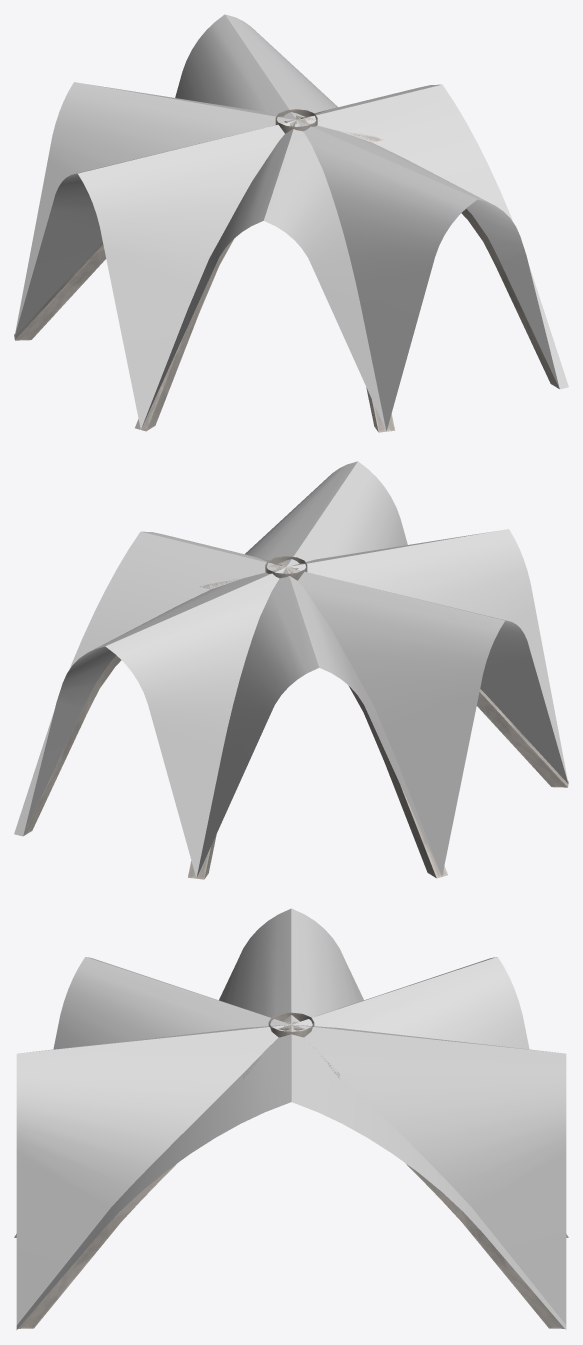
Rendered from Ambulatory_Ceiling.fbx.
3 views of the same model, one above another, from view 1: azimuth 30°, elevation 25°; view 2: azimuth 150°, elevation 25°; view 3: azimuth 270°, elevation 25° (orthographic). The views are drawn at different scales.
Parts seen in each view (by area): view 1: Ambulatory_Ceiling; view 2: Ambulatory_Ceiling; view 3: Ambulatory_Ceiling.
Part boxes in pixels (x1,y1,x2,y2): Ambulatory_Ceiling: (14,14,568,432); Ambulatory_Ceiling: (14,461,568,879); Ambulatory_Ceiling: (14,908,568,1329).
Size of the model in its own units: 10.08 by 12.11 by 5.56.
